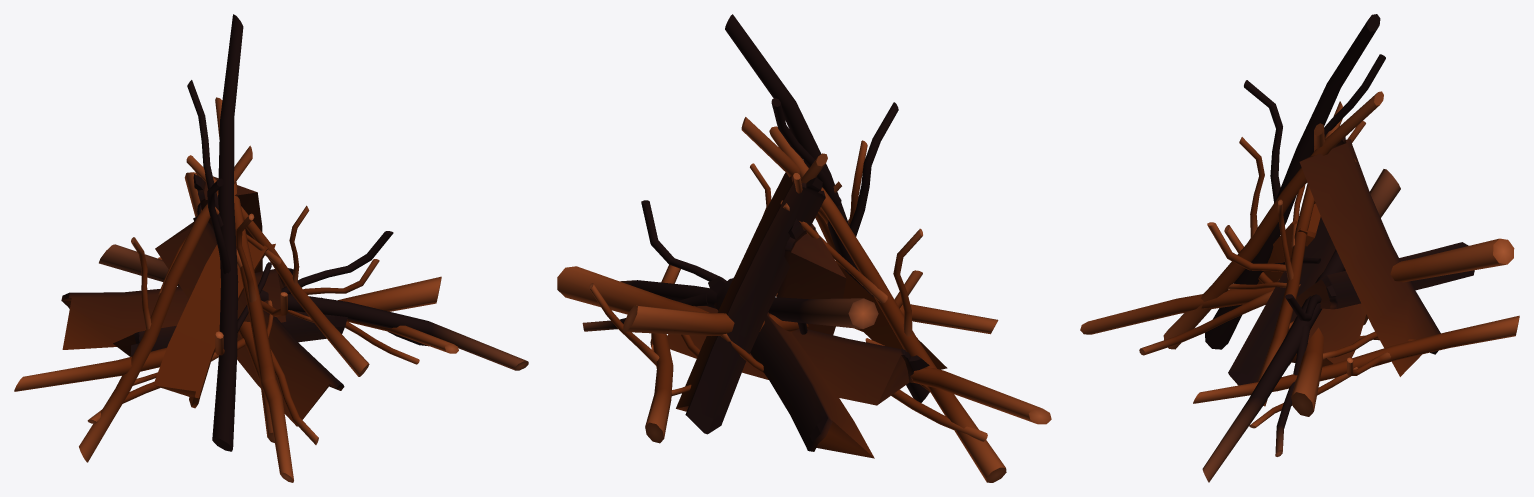
The model's file is Campfire.fbx.
3 renders of one model, left to right at view 1: azimuth 30°, elevation 25°; view 2: azimuth 150°, elevation 25°; view 3: azimuth 270°, elevation 25°, orthographic. The views are drawn at different scales.
Parts seen in each view (by area): view 1: pCylinder19; view 2: pCylinder19; view 3: pCylinder19.
Boxes of the visible parts, x1,y1,x2,y2 form: pCylinder19: (14,14,528,482); pCylinder19: (557,14,1051,482); pCylinder19: (1080,14,1519,482).
Size of the model in its own units: 6.54 by 5.12 by 5.2.
